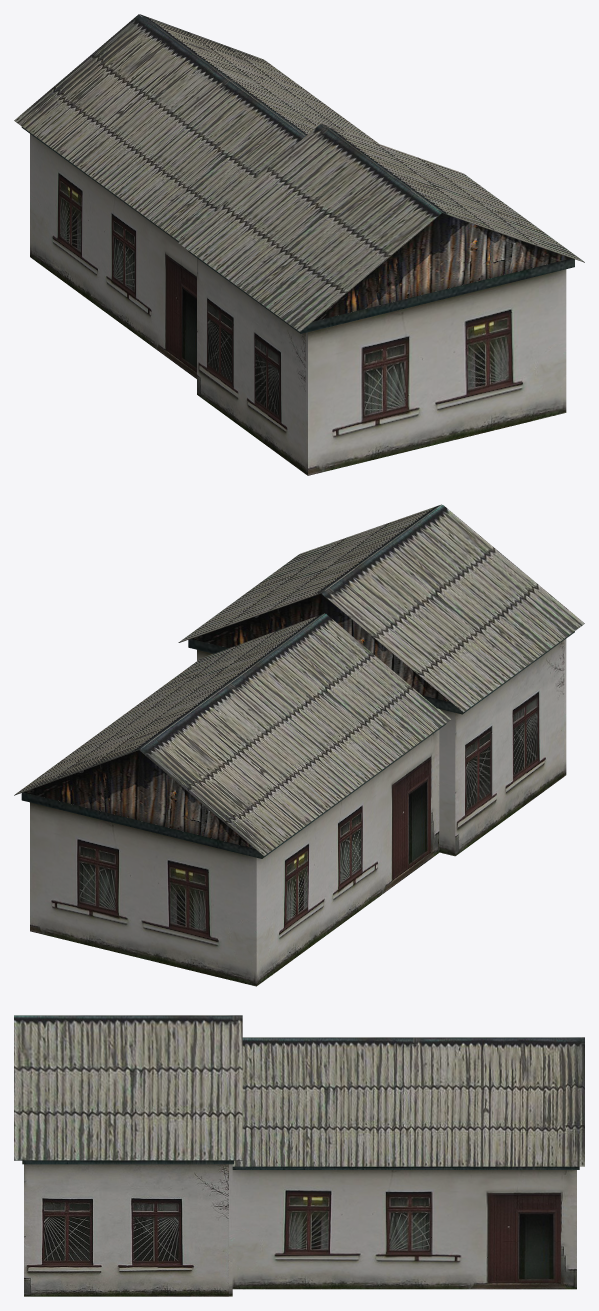
File: sibir_budka7.FBX
The picture shows the model from 3 angles, top to bottom: view 1: azimuth 30°, elevation 25°; view 2: azimuth 150°, elevation 25°; view 3: azimuth 270°, elevation 25°; orthographic projection. The views are drawn at different scales.
Visible parts, largest first — view 1: sibir_budka7; view 2: sibir_budka7; view 3: sibir_budka7.
Boxes of the visible parts, x1,y1,x2,y2 form: sibir_budka7: [14, 14, 584, 475]; sibir_budka7: [14, 504, 584, 986]; sibir_budka7: [14, 1015, 584, 1296].
Bounding box in the file's own units: 7.27 × 13.38 × 5.74.
